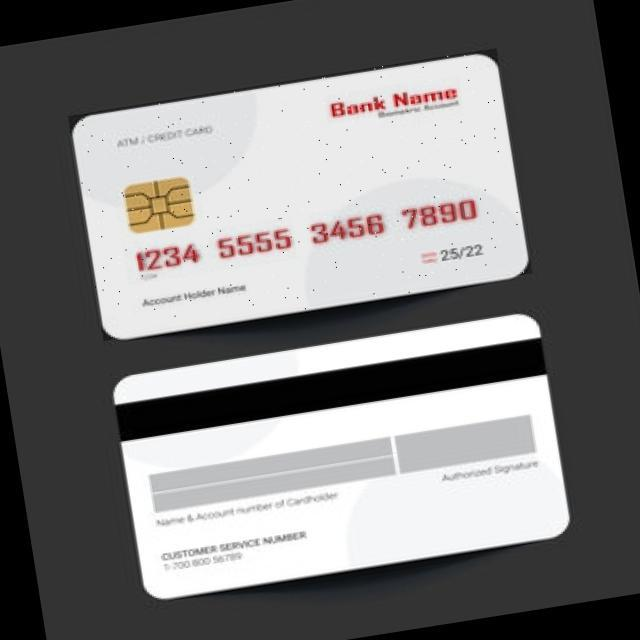payment_card: (68, 48, 530, 340), (112, 316, 572, 600)
